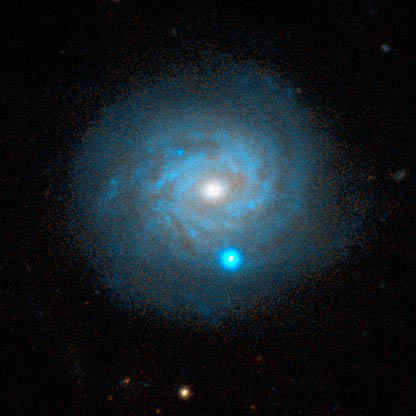NGC 3982: (63, 71, 357, 322)
